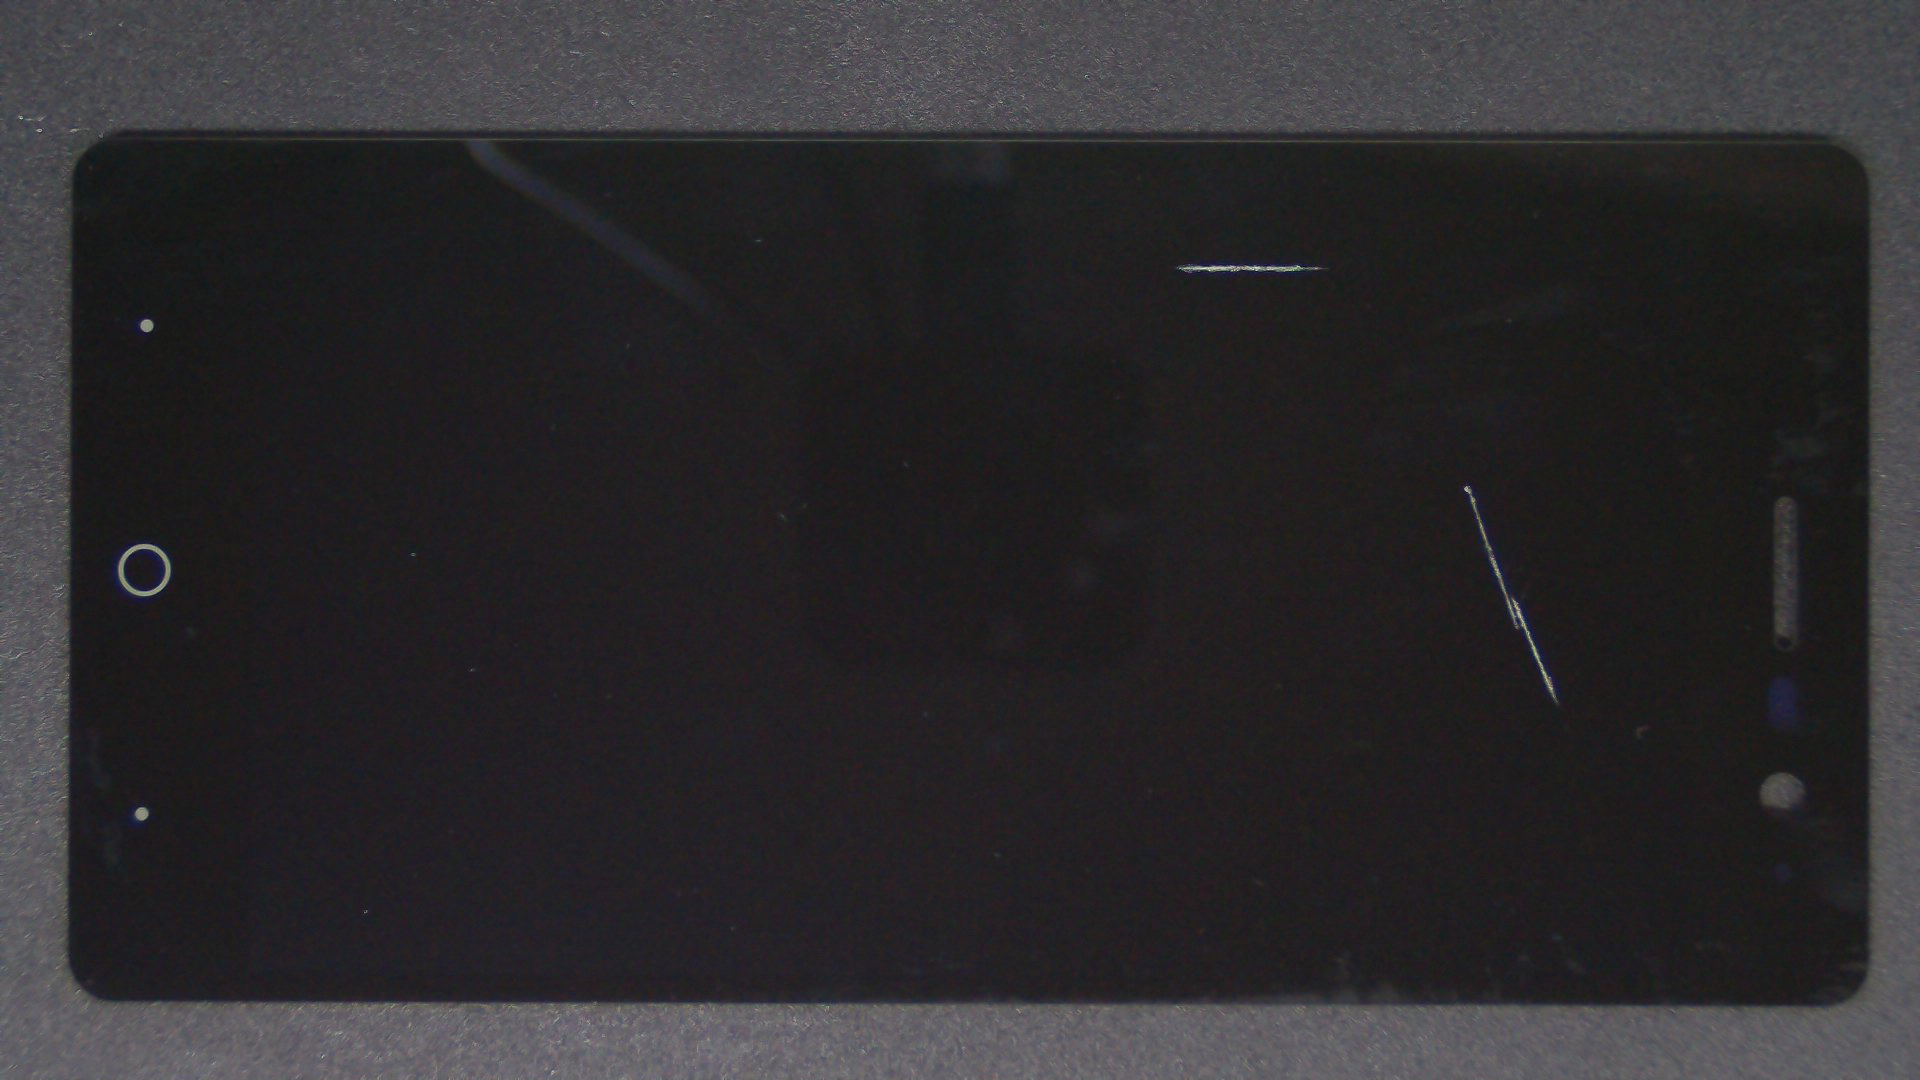defect: (1462, 484, 1560, 705), (1174, 262, 1331, 274)
